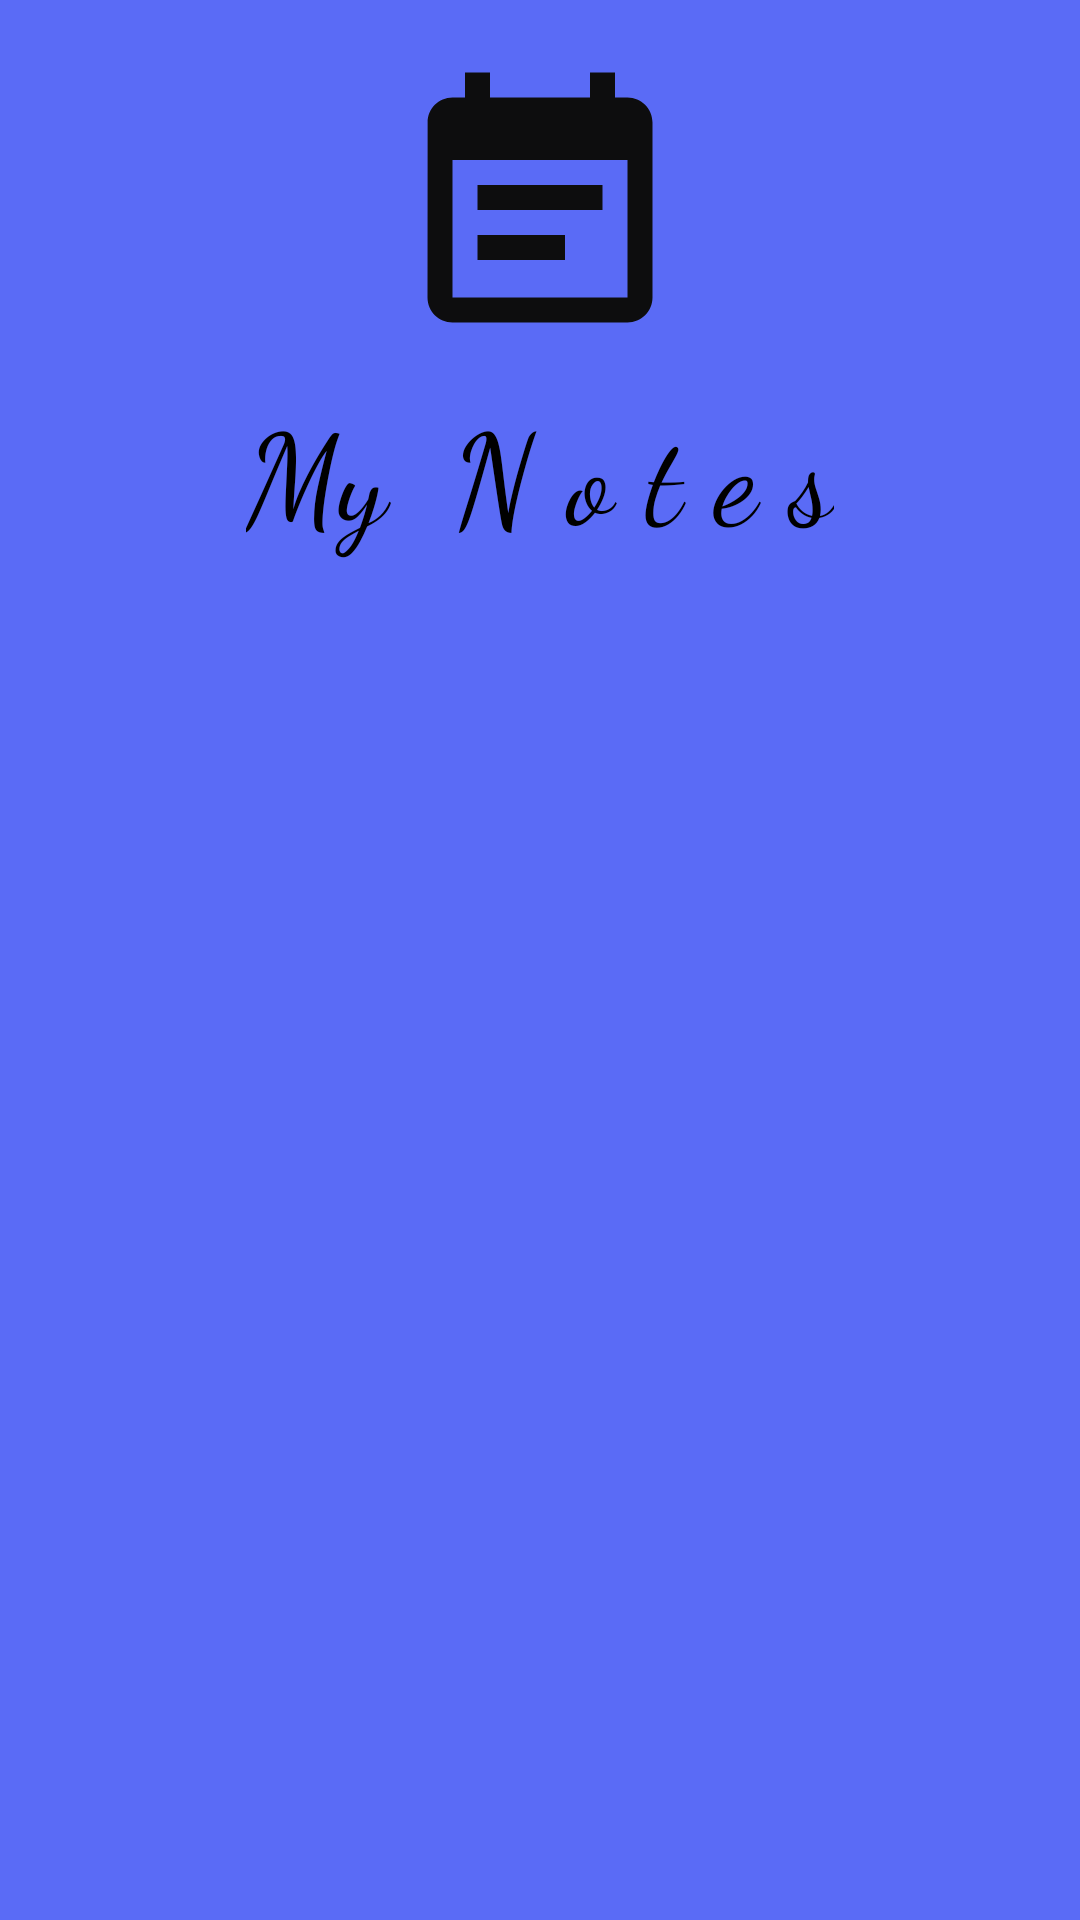

Icons on this 1080 × 1920 Android screen, each with its box as (x1, y1, x2, y2):
event note: (427, 72, 653, 323)
